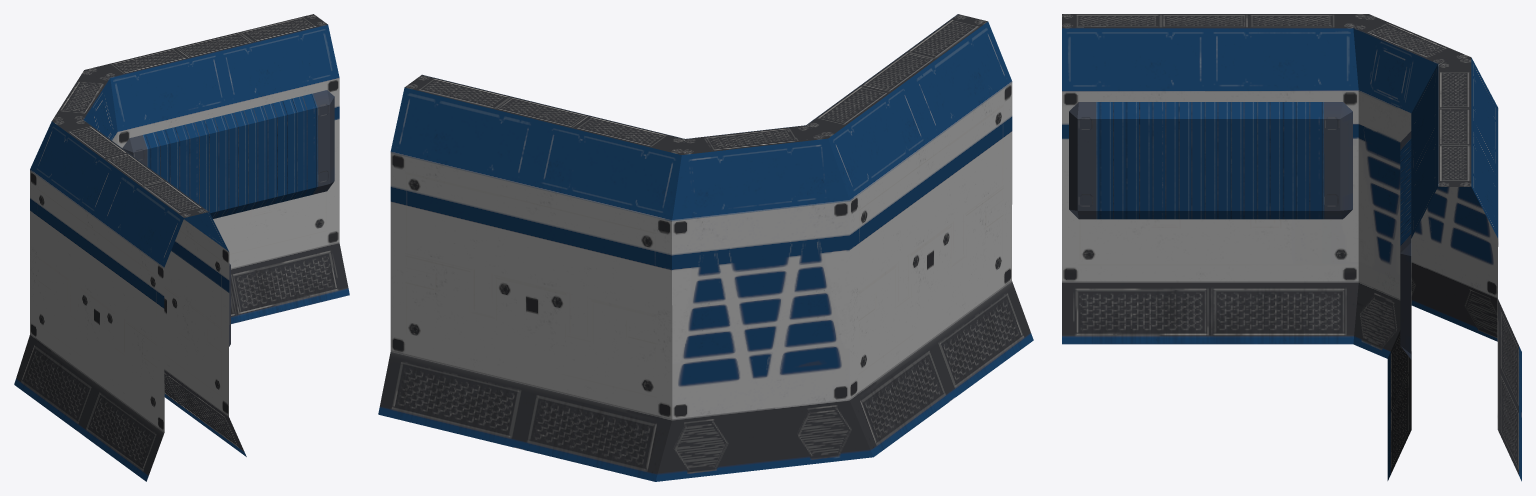
File: Wall_angle_5_Sci_Fi.fbx
The picture shows the model from 3 angles, left to right: view 1: azimuth 30°, elevation 25°; view 2: azimuth 150°, elevation 25°; view 3: azimuth 270°, elevation 25°; orthographic projection. The views are drawn at different scales.
Parts seen in each view (by area): view 1: Sci_Fi_wall_angle_5; view 2: Sci_Fi_wall_angle_5; view 3: Sci_Fi_wall_angle_5.
Boxes of the visible parts, left/top/right/bottom form: Sci_Fi_wall_angle_5: left=14, top=14, right=349, bottom=481; Sci_Fi_wall_angle_5: left=378, top=14, right=1033, bottom=481; Sci_Fi_wall_angle_5: left=1062, top=14, right=1521, bottom=481.
Bounding box in the file's own units: 558 × 395 × 558.
